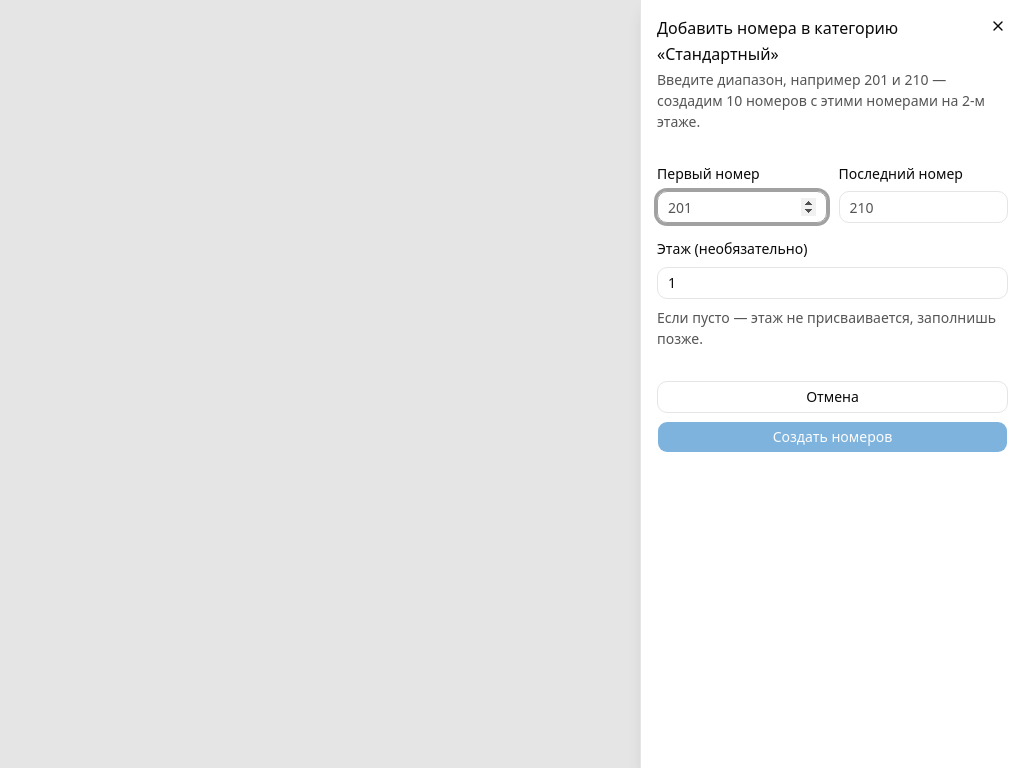
Scenario: RoomsBulkAddSheet — floor inline-bounds (B5.bis) › [B3] floor=51 surfaces «Не больше 50» (mirrors server max)
Replace the text in the number field labelled "Этаж (необязательно)" with "51". click: coordinates (832, 283)
box: [657,267,1008,299]
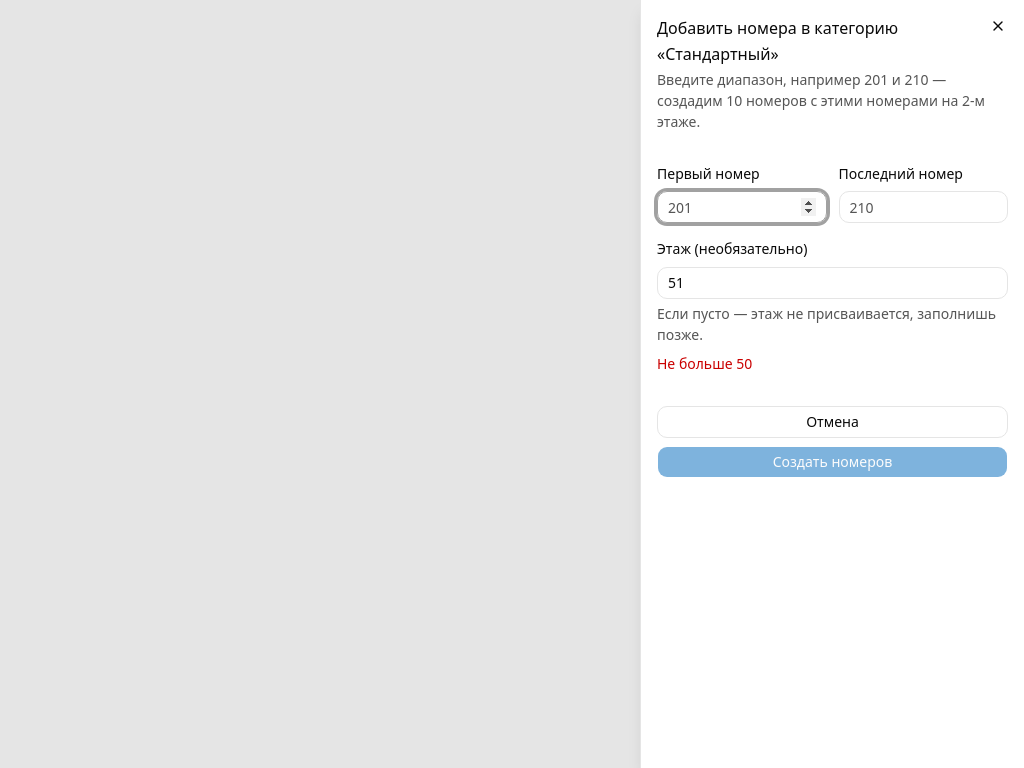
Now the text "Не больше 50" is shown, box [657,354,752,373]
